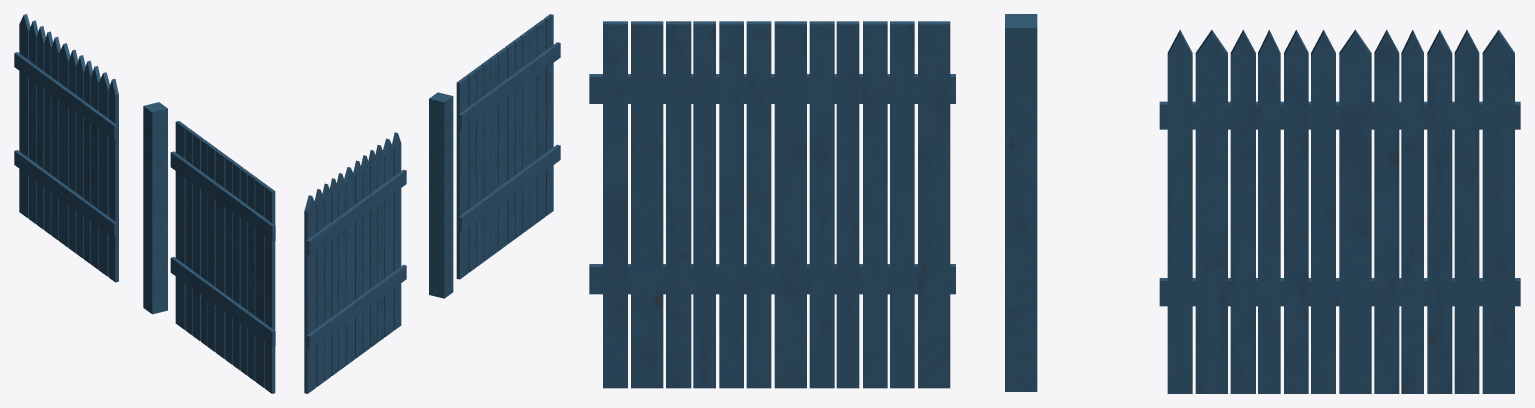
Rendered from newWoodFance.fbx.
3 views of the same model, side by side, from view 1: azimuth 30°, elevation 25°; view 2: azimuth 150°, elevation 25°; view 3: azimuth 270°, elevation 25° (orthographic). The views are drawn at different scales.
Parts seen in each view (by area): view 1: WoodFance2, Cylinder.019, Cylinder.015; view 2: WoodFance2, Cylinder.019, Cylinder.015; view 3: WoodFance2, Cylinder.019, Cylinder.015.
Part boxes in pixels (bbox=[...]): WoodFance2: bbox=[170, 121, 275, 393]; Cylinder.019: bbox=[14, 14, 118, 282]; Cylinder.015: bbox=[143, 102, 167, 314]; WoodFance2: bbox=[456, 14, 560, 279]; Cylinder.019: bbox=[304, 132, 406, 393]; Cylinder.015: bbox=[429, 92, 453, 298]; WoodFance2: bbox=[589, 21, 955, 388]; Cylinder.019: bbox=[1159, 29, 1520, 393]; Cylinder.015: bbox=[1005, 14, 1037, 391].
Size of the model in its own units: 44.25 by 548 by 1251.
